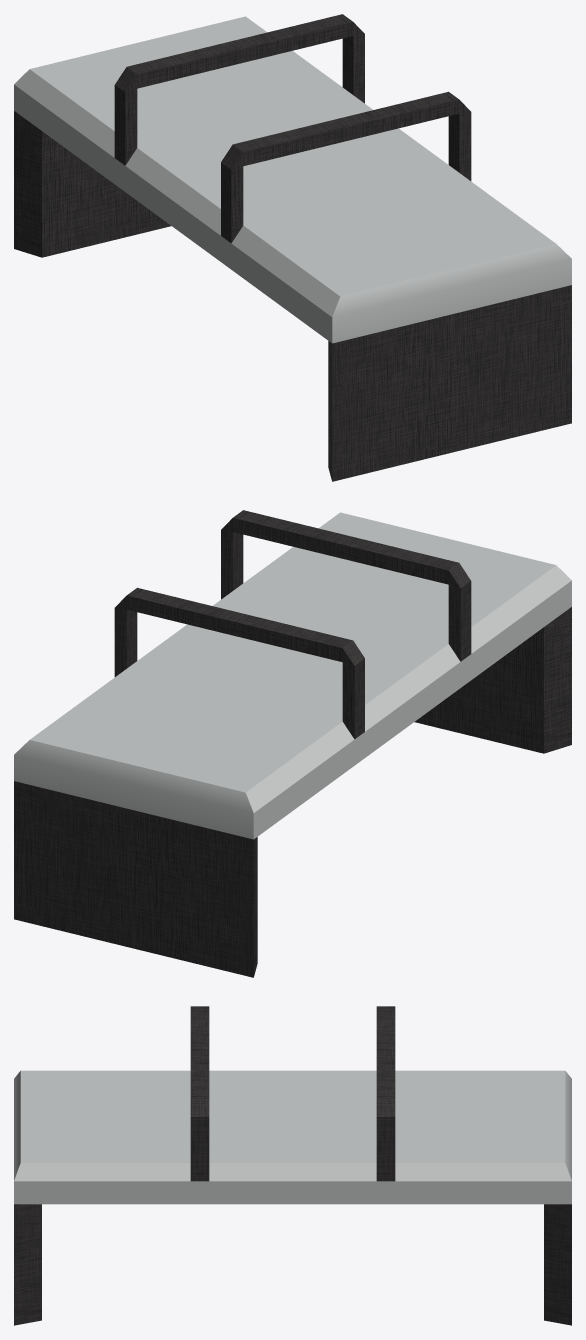
Rendered from Bench_Mrt.fbx.
The picture shows the model from 3 angles, top to bottom: view 1: azimuth 30°, elevation 25°; view 2: azimuth 150°, elevation 25°; view 3: azimuth 270°, elevation 25°; orthographic projection. The views are drawn at different scales.
Visible parts, largest first — view 1: Bench; view 2: Bench; view 3: Bench.
Part boxes in pixels (bbox=[...]): Bench: bbox=[14, 14, 571, 481]; Bench: bbox=[14, 510, 571, 977]; Bench: bbox=[14, 1006, 571, 1325].
Bounding box in the file's own units: 71.57 × 72.17 × 165.
